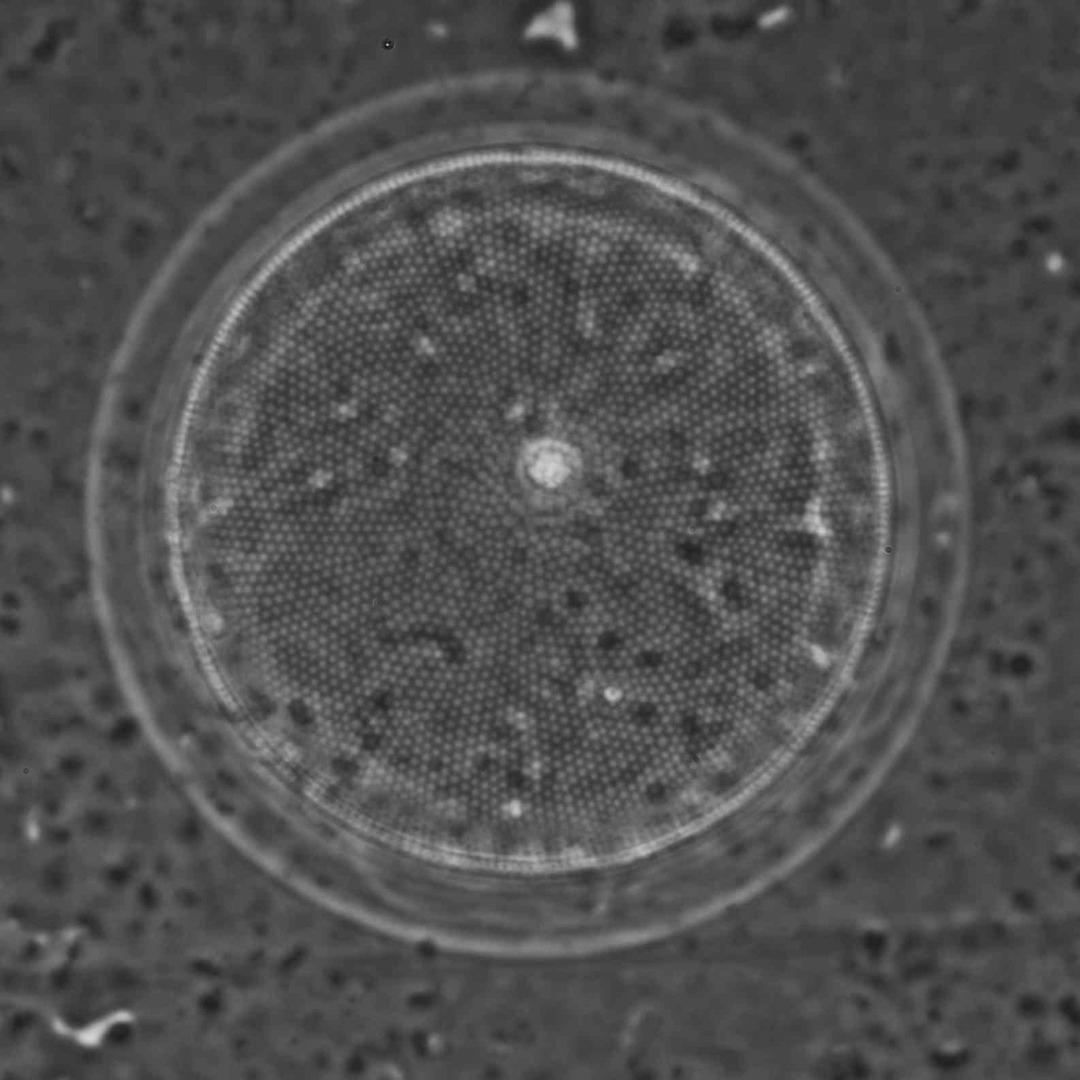coscinodiscus_oculus_iridis: (139, 122, 923, 894)
